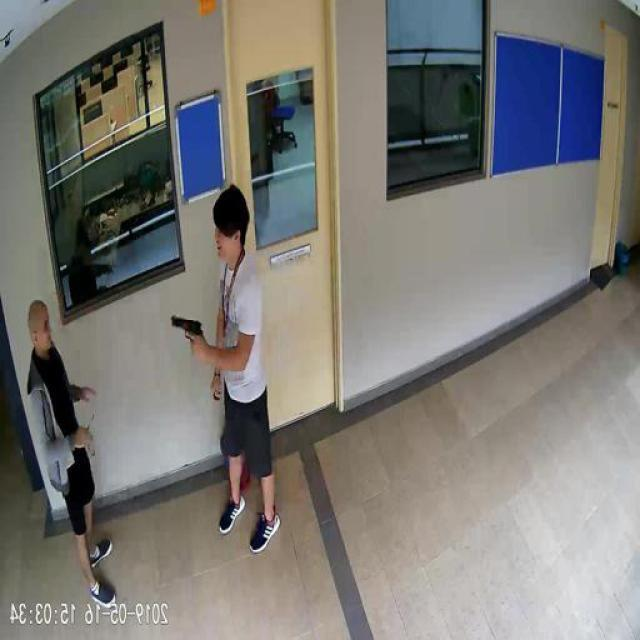weapon: (173, 316, 206, 364)
